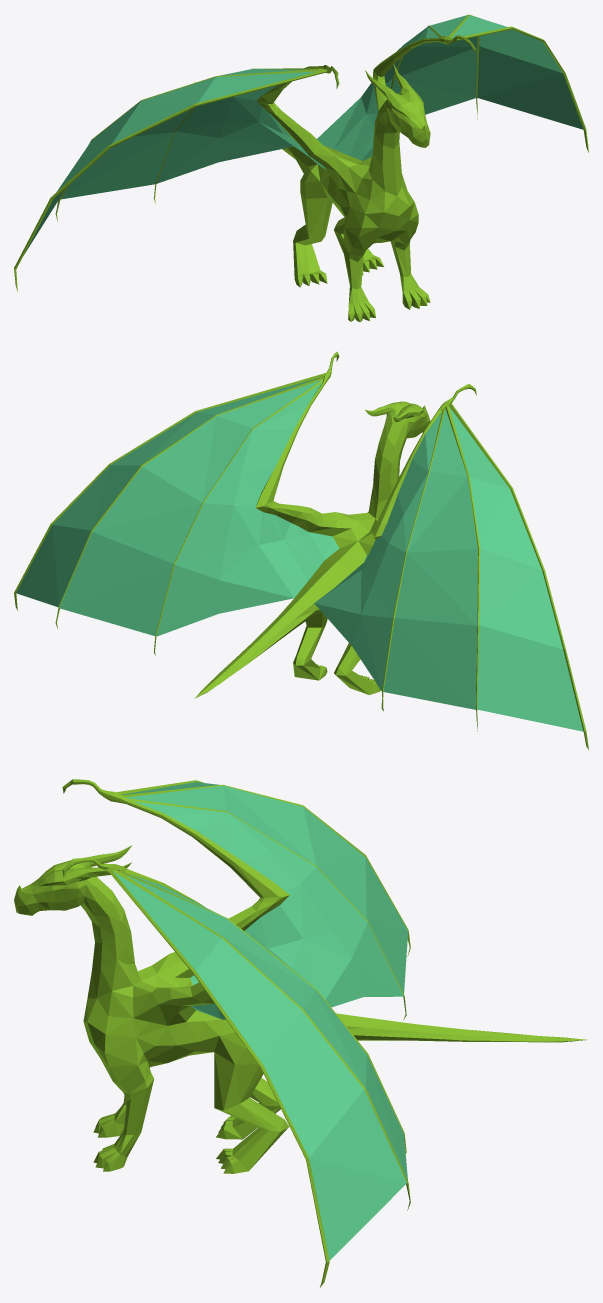
File: dragon.glb
3 renders of one model, top to bottom at view 1: azimuth 30°, elevation 25°; view 2: azimuth 150°, elevation 25°; view 3: azimuth 270°, elevation 25°, orthographic. The views are drawn at different scales.
Parts seen in each view (by area): view 1: imagetostl_mesh0; view 2: imagetostl_mesh0; view 3: imagetostl_mesh0.
Boxes of the visible parts, left/top/right/bottom form: imagetostl_mesh0: left=14, top=14, right=588, bottom=322; imagetostl_mesh0: left=14, top=352, right=588, bottom=749; imagetostl_mesh0: left=14, top=779, right=587, bottom=1287.
Bounding box in the file's own units: 631 × 281 × 444.
